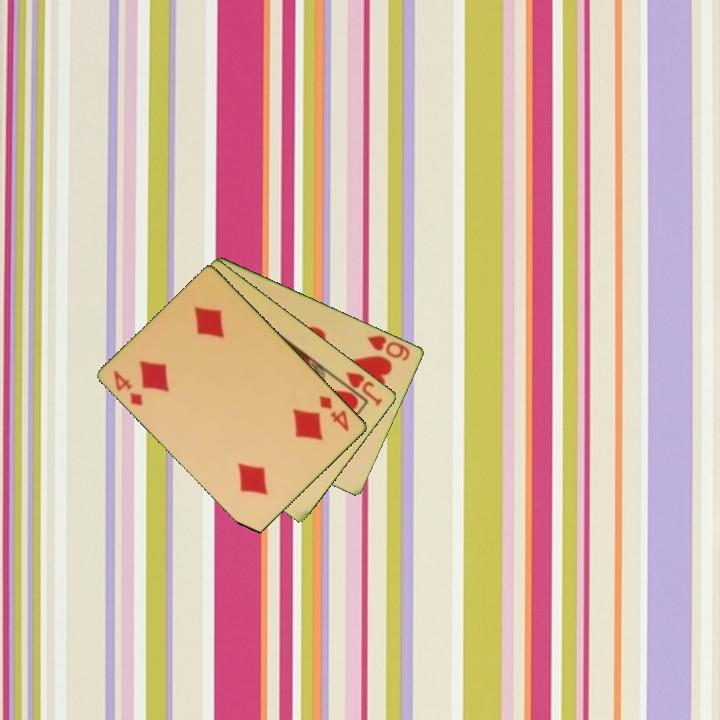4d: (316, 392, 352, 434), (110, 367, 146, 409)
6h: (363, 331, 413, 364)
Jh: (343, 368, 386, 409)
